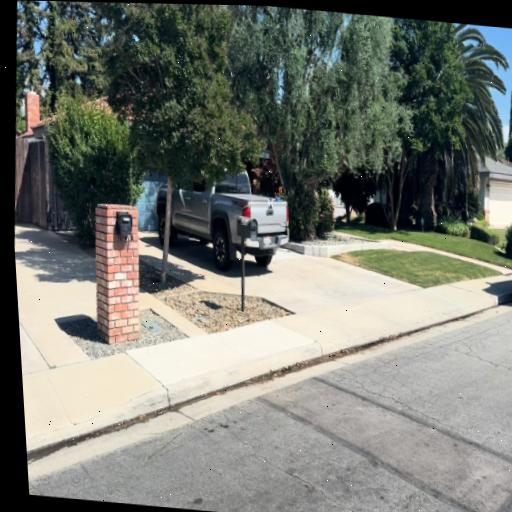target1: (267, 198, 274, 209)
